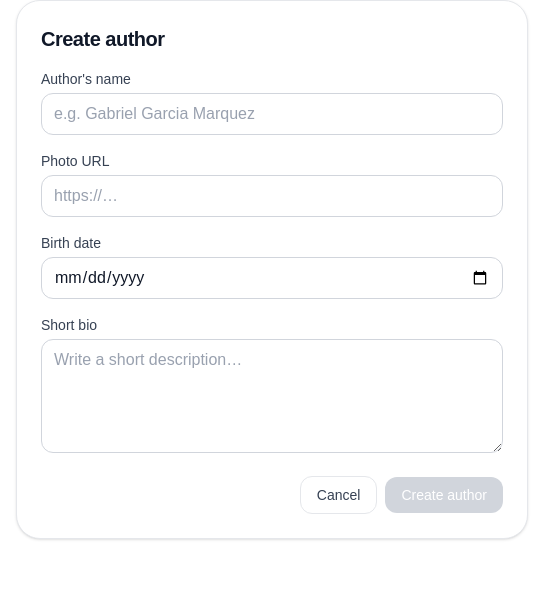
it: AuthorForm › should prevent form submission with empty required fields and disable submit button
Expected: the button "Create author" is disabled, [385, 477, 503, 513]
# Simular intento de envío con valores vacíos
Submit the form
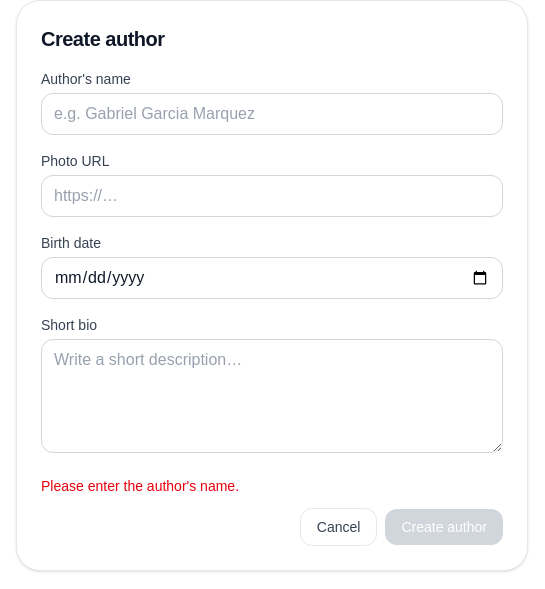
Expected: the button "Create author" is disabled, [385, 509, 503, 545]
Expected: the text "Please enter the author's name." is shown, [41, 478, 239, 494]
Type "Test Author" into the field labelled "Author's name" at point(272, 114), box [41, 93, 503, 135]
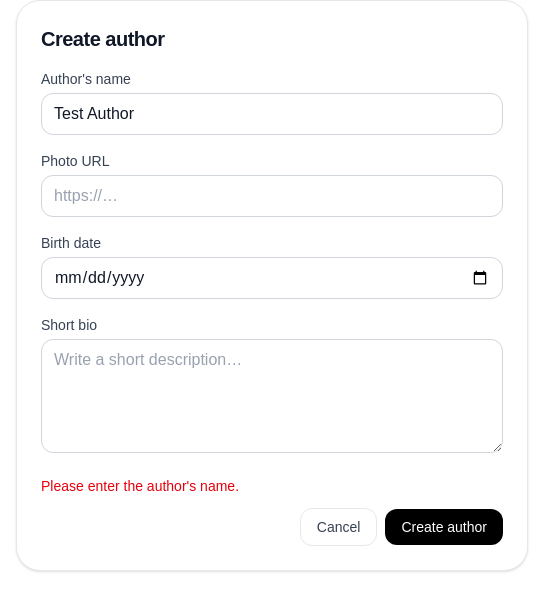
Expected: the button "Create author" is enabled, [385, 509, 503, 545]
